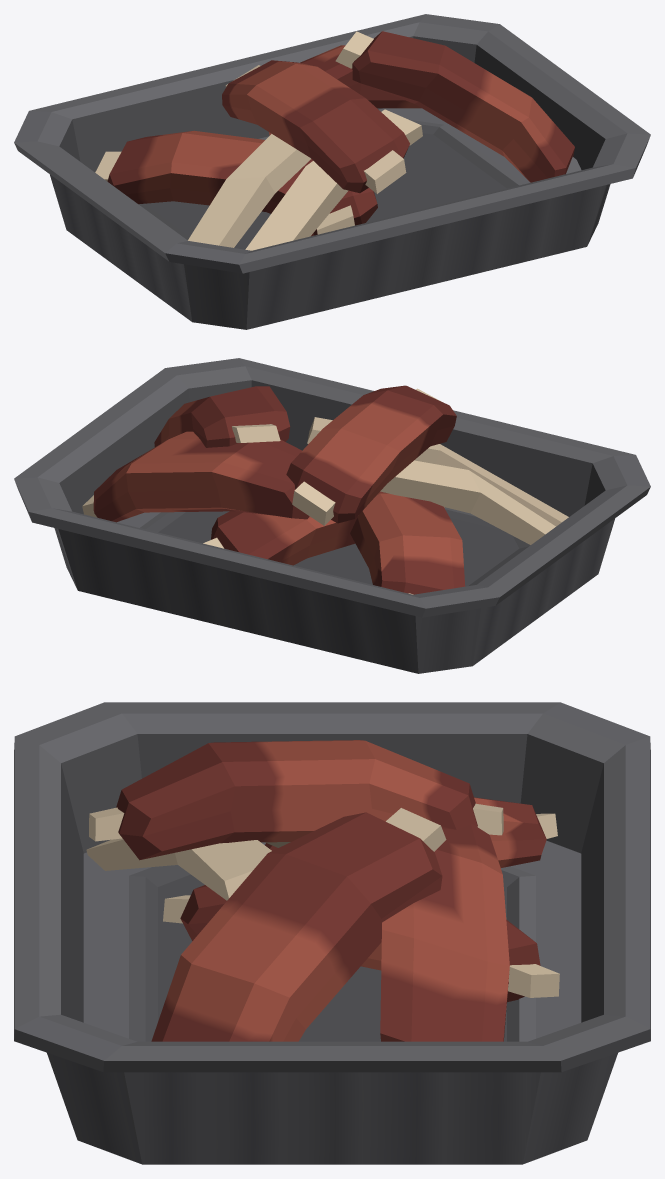
Rendered from SM_Prop_Food_Tray_02.fbx.
The picture shows the model from 3 angles, top to bottom: view 1: azimuth 30°, elevation 25°; view 2: azimuth 150°, elevation 25°; view 3: azimuth 270°, elevation 25°; orthographic projection. The views are drawn at different scales.
Visible parts, largest first — view 1: SM_Prop_Food_Tray_02; view 2: SM_Prop_Food_Tray_02; view 3: SM_Prop_Food_Tray_02.
Boxes of the visible parts, bbox=[...] form: SM_Prop_Food_Tray_02: bbox=[14, 14, 650, 329]; SM_Prop_Food_Tray_02: bbox=[14, 358, 650, 673]; SM_Prop_Food_Tray_02: bbox=[14, 702, 650, 1164].
Size of the model in its own units: 75.85 by 23.59 by 56.95.
